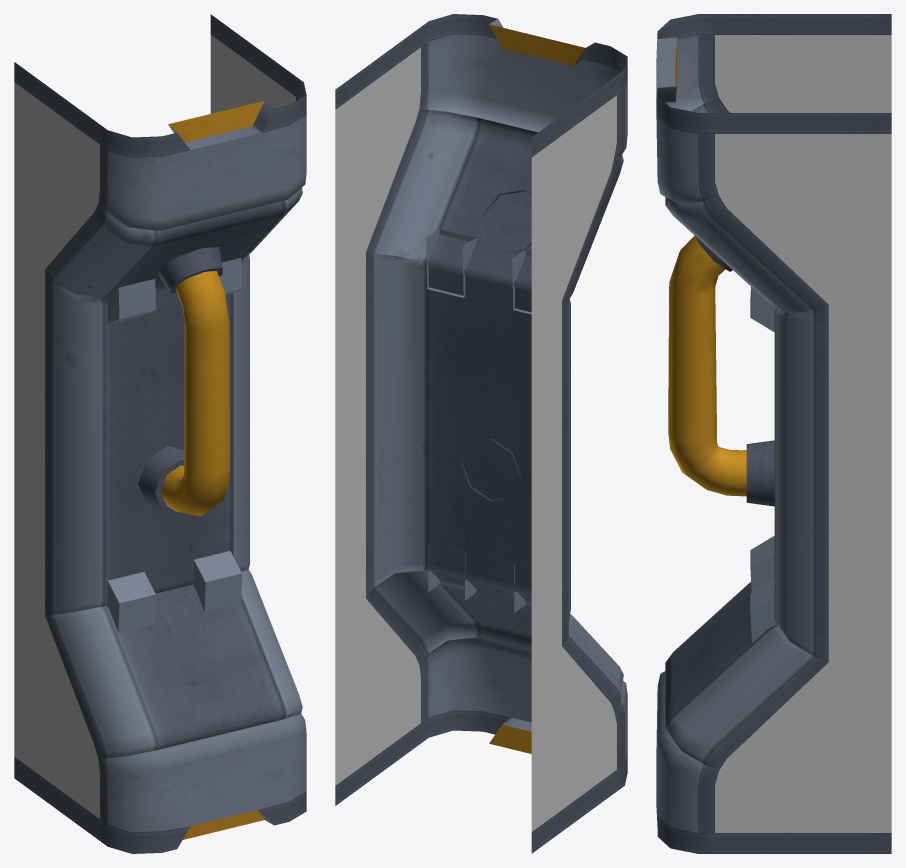
Rendered from obj_spaceship_wall12.fbx.
The picture shows the model from 3 angles, left to right: view 1: azimuth 30°, elevation 25°; view 2: azimuth 150°, elevation 25°; view 3: azimuth 270°, elevation 25°; orthographic projection. The views are drawn at different scales.
Visible parts, largest first — view 1: polySurface104; view 2: polySurface104; view 3: polySurface104.
Part boxes in pixels (x1,y1,x2,y2): polySurface104: (14,14,306,853); polySurface104: (335,14,627,853); polySurface104: (656,14,891,853).
Bounding box in the file's own units: 4 × 14.02 × 4.02.
